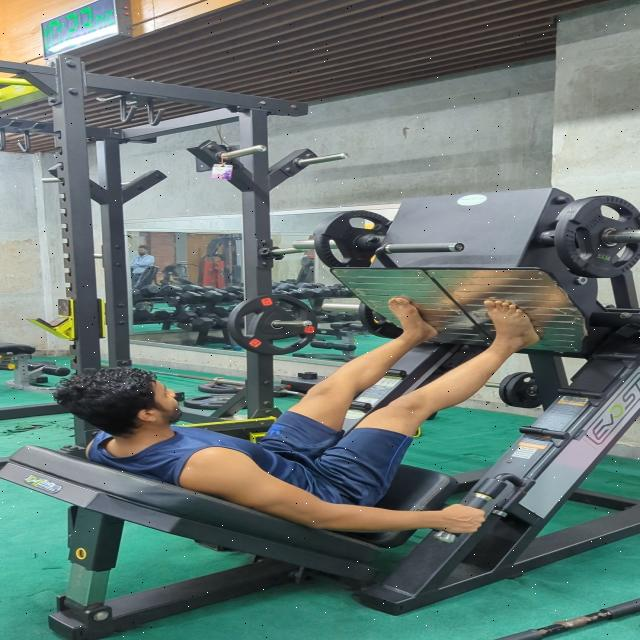Normal_LegPress: (42, 292, 554, 540)
